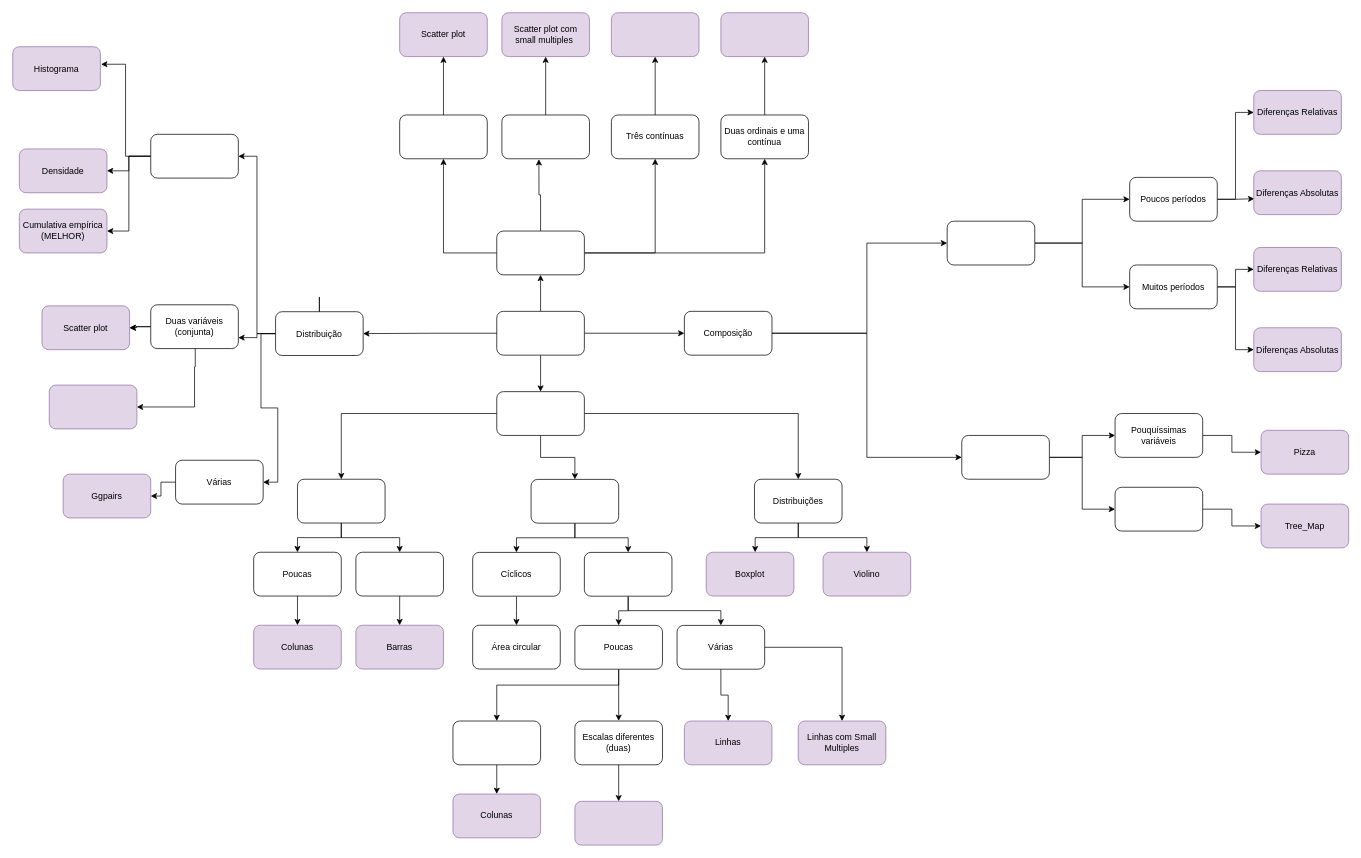
The diagram is 1361 pixels wide and 858 high, and some of its shapes have lost their labels. Here are the shapes that lost their labels. From the top down, the centre of each, then its label:
At point 655,34: "Bolhas".
At point 764,34: "Mapa de calor".
At point 194,156: "Uma variável".
At point 443,136: "Duas contínuas (no mínimo ordinais)".
At point 545,136: "Duas contínuas mais uma categórica".
At point 540,252: "Relação de variáveis".
At point 990,242: "No tempo".
At point 540,333: "Finalidade".
At point 93,406: "densidade 2d".
At point 540,413: "Comparação entre variáveis".
At point 1005,457: "Estática".
At point 341,501: "Valores escalares".
At point 574,501: "Valores no tempo".
At point 1158,509: "Muitas variáveis".
At point 399,574: "Muitas".
At point 628,574: "Não cíclicos".
At point 496,742: "Mesma escala".
At point 618,823: "Linhas com fundo".
